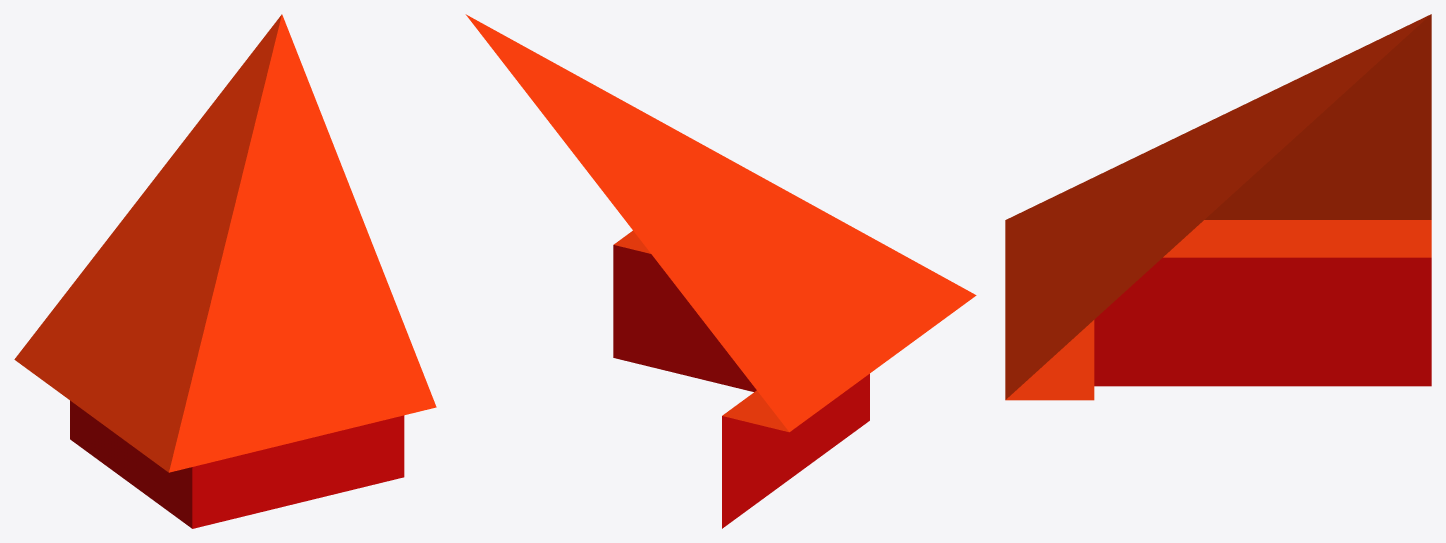
3 renders of one model, left to right at view 1: azimuth 30°, elevation 25°; view 2: azimuth 150°, elevation 25°; view 3: azimuth 270°, elevation 25°, orthographic. The views are drawn at different scales.
Visible parts, largest first — view 1: None_S_E_E_E_E_E_E_E_None; view 2: None_S_E_E_E_E_E_E_E_None; view 3: None_S_E_E_E_E_E_E_E_None.
Boxes of the visible parts, x1,y1,x2,y2 form: None_S_E_E_E_E_E_E_E_None: (14,14,436,528); None_S_E_E_E_E_E_E_E_None: (465,14,976,528); None_S_E_E_E_E_E_E_E_None: (1005,14,1431,400).
Bounding box in the file's own units: 75 × 100 × 75.
